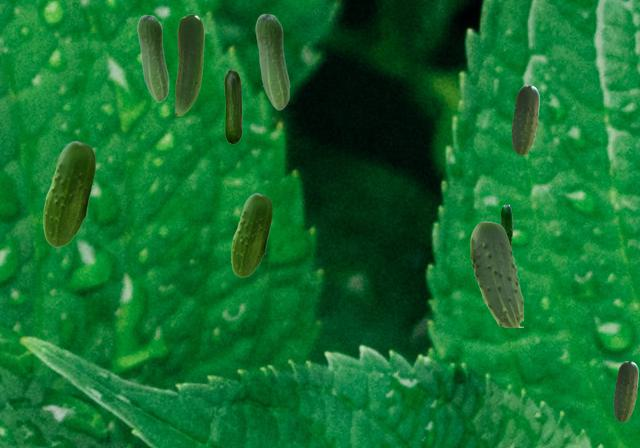cucumber: (470, 221, 522, 326), (43, 141, 94, 246), (231, 193, 271, 276), (255, 13, 289, 109), (175, 14, 203, 115), (137, 14, 168, 101), (511, 85, 538, 154), (613, 361, 637, 421), (224, 69, 241, 143), (500, 204, 512, 247)
